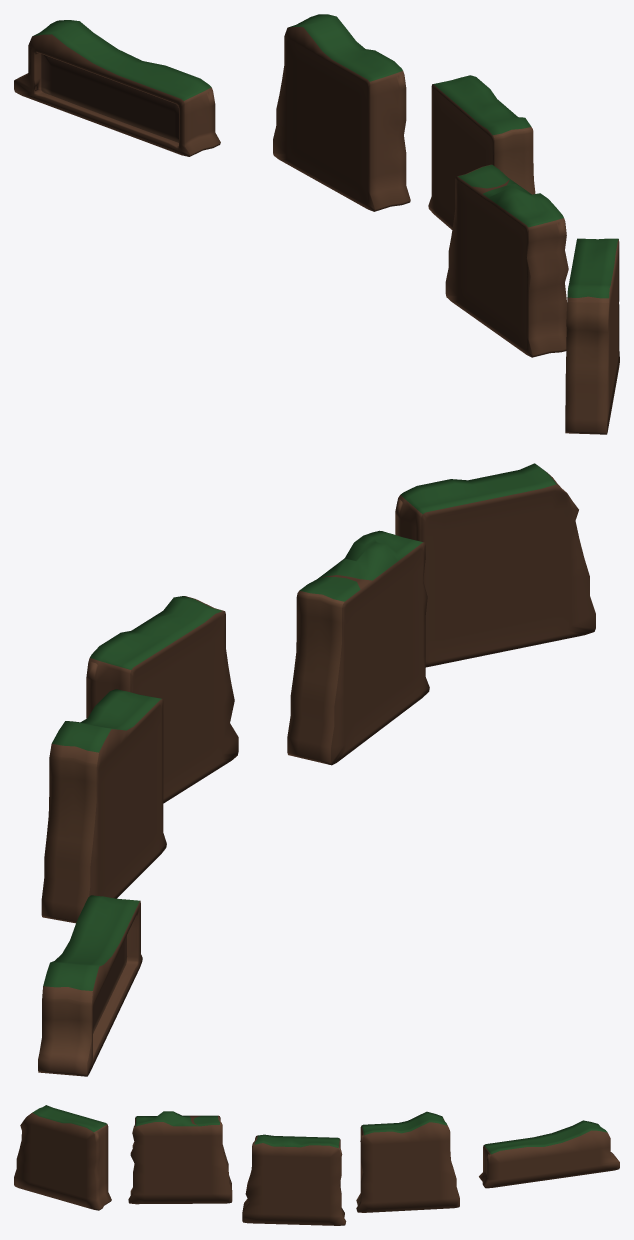
File: fond_1110.fbx
3 renders of one model, top to bottom at view 1: azimuth 30°, elevation 25°; view 2: azimuth 150°, elevation 25°; view 3: azimuth 270°, elevation 25°, orthographic. The views are drawn at different scales.
Visible parts, largest first — view 1: Cube.054_Cube.040, Cube.058_Cube.051, Cube.062_Cube.079, Cube.060_Cube.077, Cube.056_Cube.048; view 2: Cube.060_Cube.077, Cube.058_Cube.051, Cube.054_Cube.040, Cube.056_Cube.048, Cube.062_Cube.079; view 3: Cube.054_Cube.040, Cube.058_Cube.051, Cube.056_Cube.048, Cube.060_Cube.077, Cube.062_Cube.079.
Boxes of the visible parts, x1=… form: Cube.054_Cube.040: x1=273, y1=14, x2=410, y2=211; Cube.058_Cube.051: x1=445, y1=164, x2=568, y2=357; Cube.062_Cube.079: x1=14, y1=20, x2=220, y2=156; Cube.060_Cube.077: x1=565, y1=238, x2=619, y2=434; Cube.056_Cube.048: x1=428, y1=75, x2=535, y2=229; Cube.060_Cube.077: x1=395, y1=463, x2=595, y2=667; Cube.058_Cube.051: x1=287, y1=530, x2=429, y2=765; Cube.054_Cube.040: x1=41, y1=689, x2=166, y2=923; Cube.056_Cube.048: x1=86, y1=596, x2=238, y2=803; Cube.062_Cube.079: x1=38, y1=895, x2=142, y2=1076; Cube.054_Cube.040: x1=356, y1=1111, x2=459, y2=1212; Cube.058_Cube.051: x1=128, y1=1111, x2=232, y2=1204; Cube.056_Cube.048: x1=242, y1=1134, x2=346, y2=1225; Cube.060_Cube.077: x1=14, y1=1105, x2=111, y2=1210; Cube.062_Cube.079: x1=479, y1=1120, x2=619, y2=1188.
Bounding box in the file's own units: 367 × 225 × 1416.
